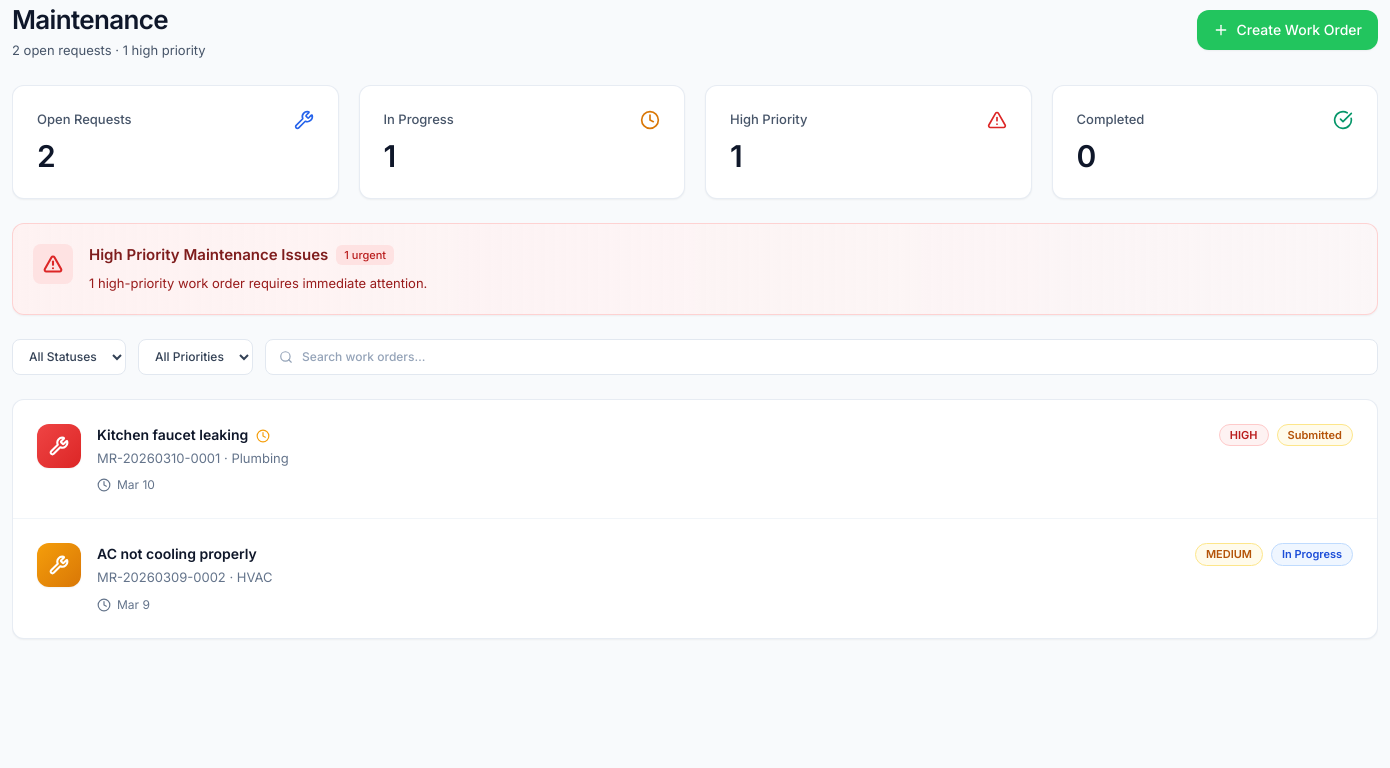
it: OwnerMaintenancePage › shows contextual empty state when filters active
Expected: the heading "Kitchen faucet leaking" is shown, top-left (97, 424), bottom-right (248, 444)
Select "Completed" in the dropdown named "Filter by status": (69, 356) top-left (12, 338), bottom-right (126, 374)
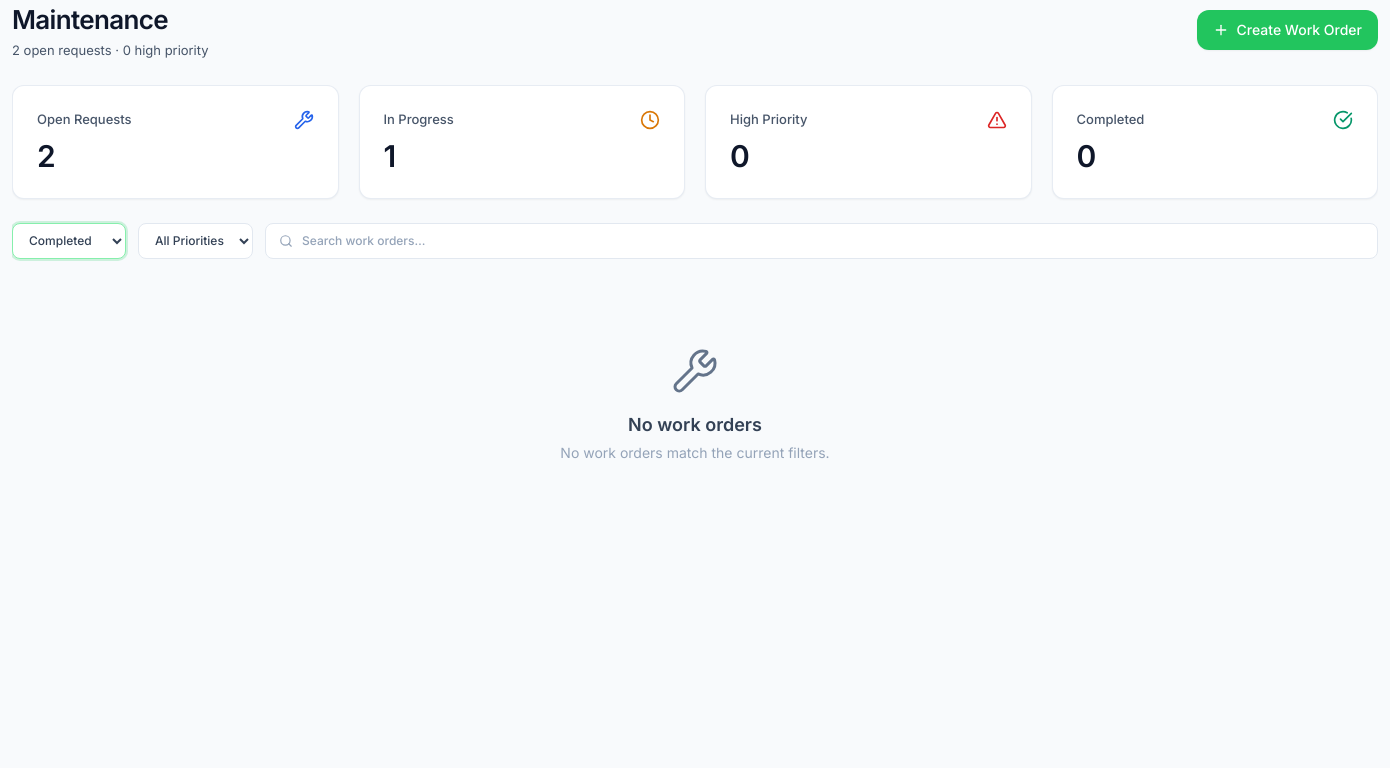
Expected: the text "No work orders match the current filters." is shown, top-left (560, 442), bottom-right (830, 462)
